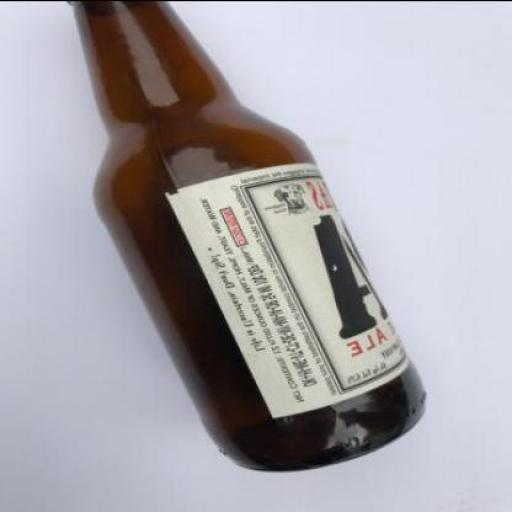glass: (65, 1, 426, 470)
